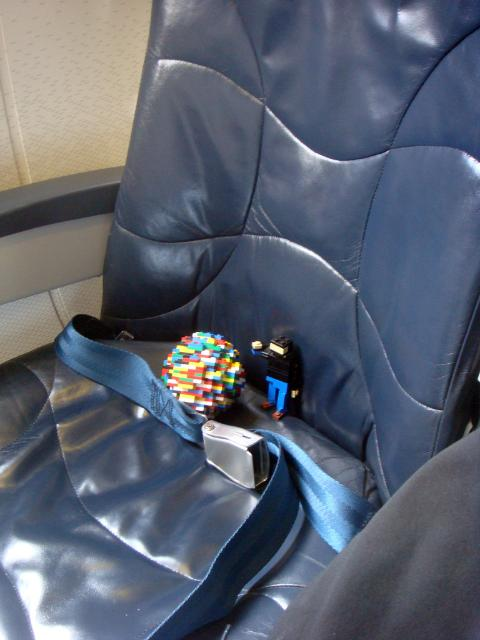Seatbelt: (51, 308, 377, 640)
